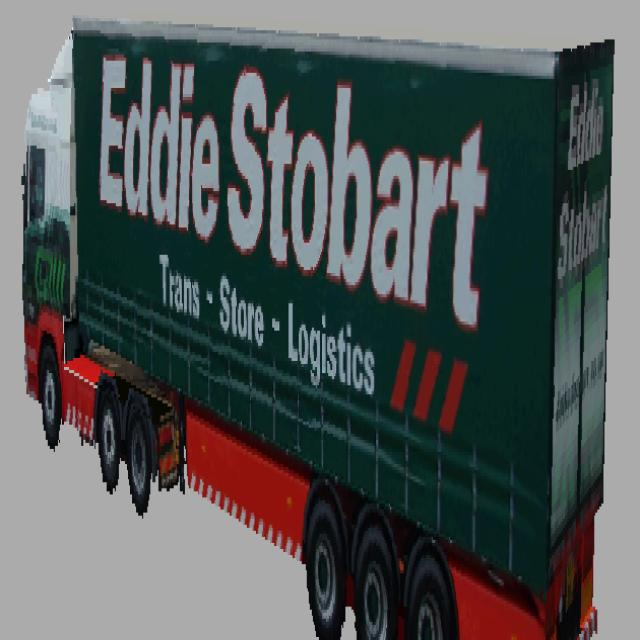Truck: (0, 0, 628, 637)
